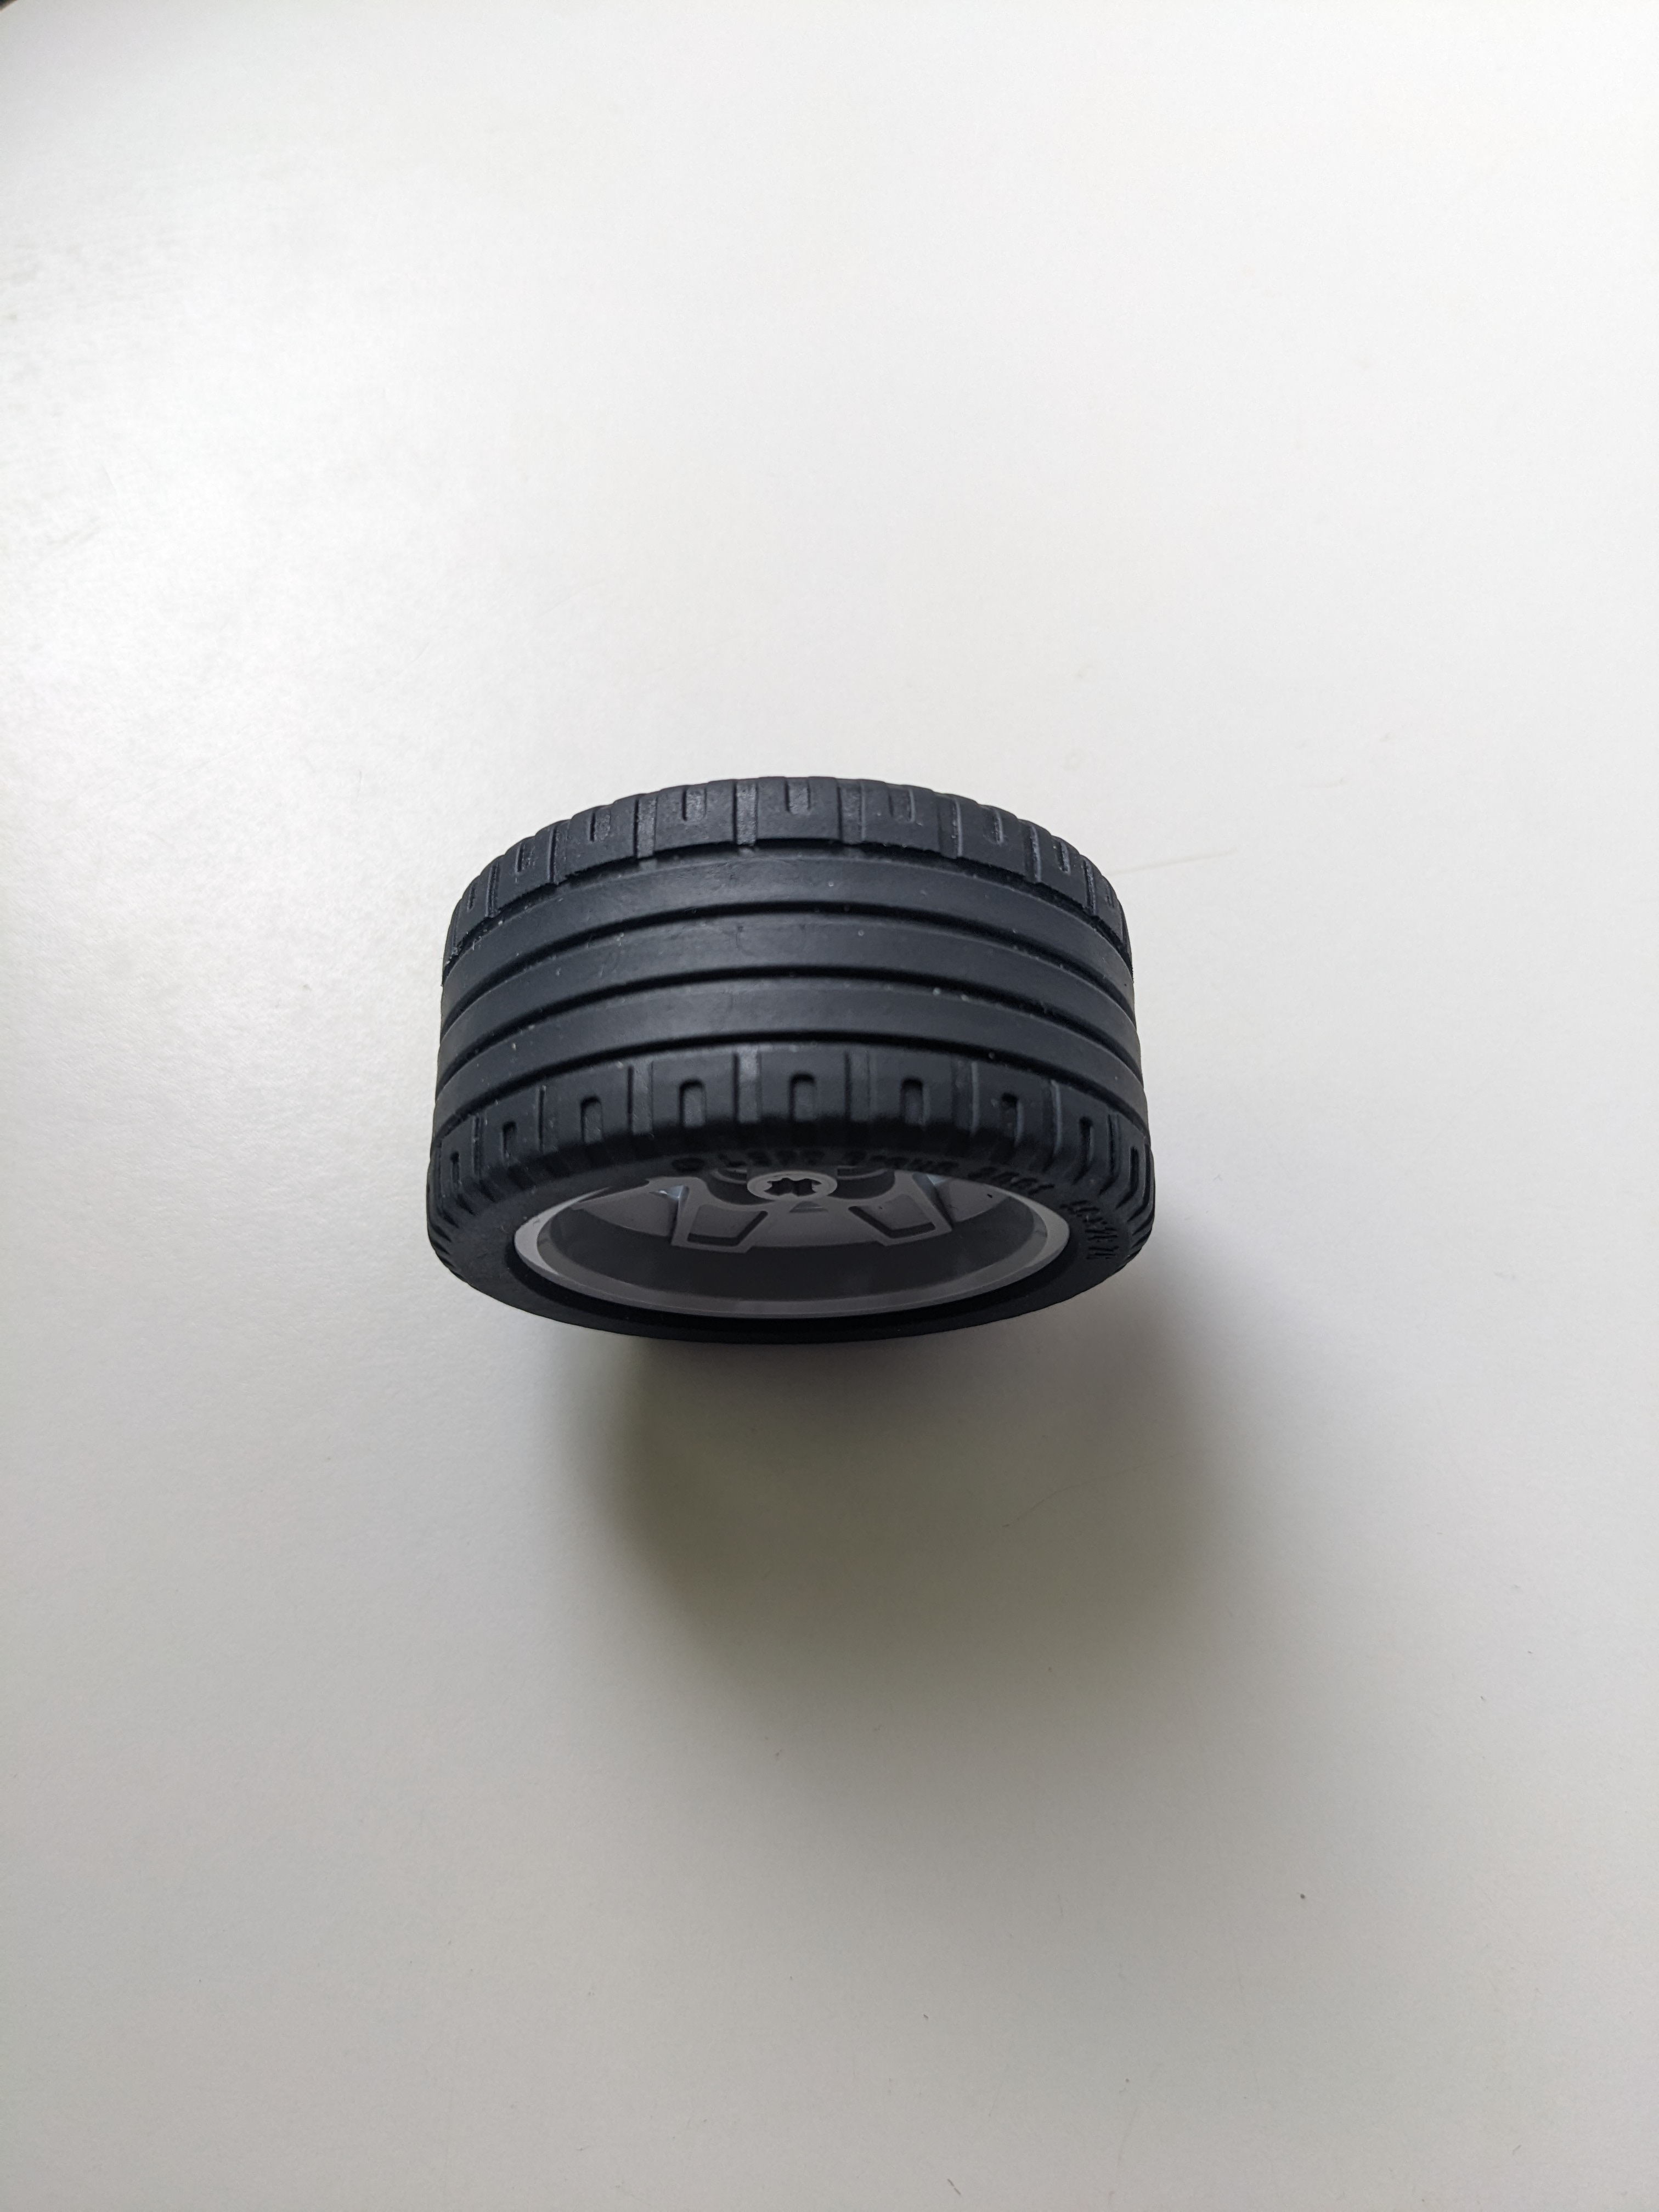Rad: (411, 768, 1168, 1379)
